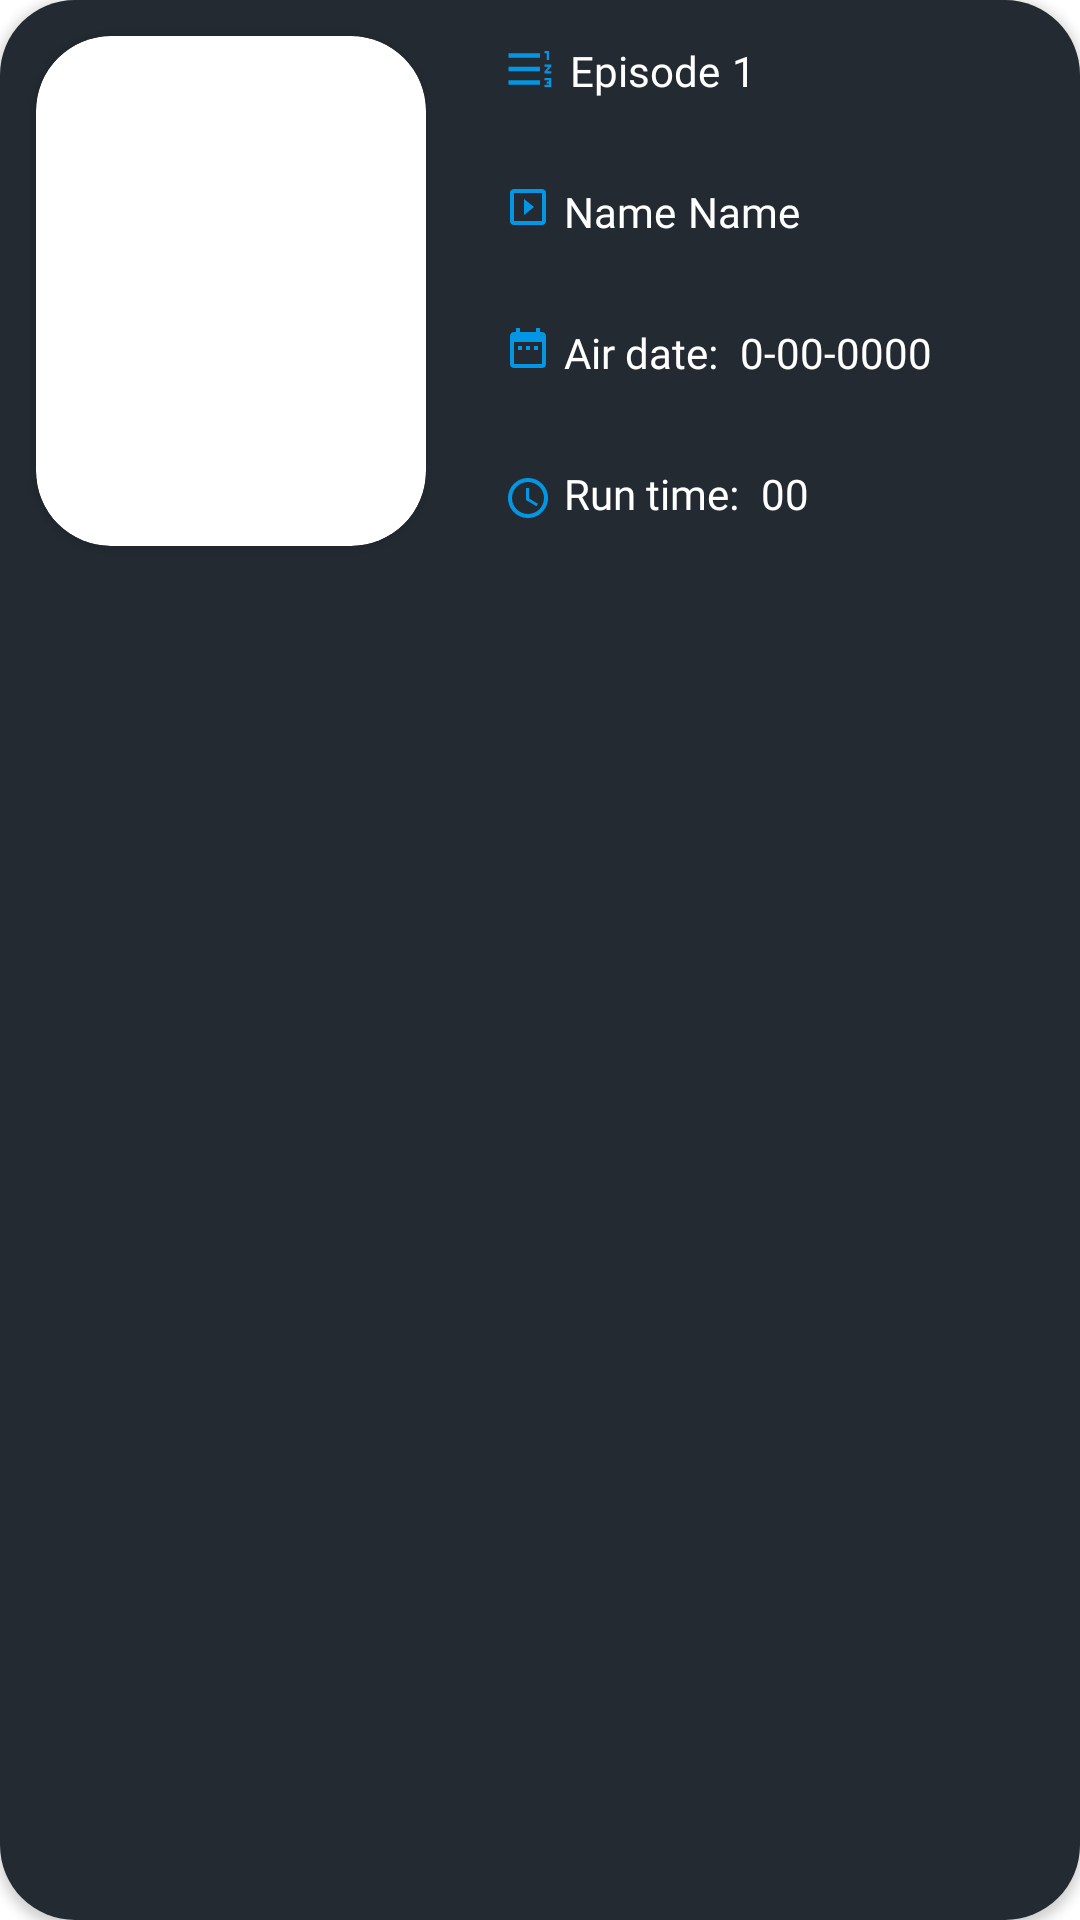

Icons on this 1080×1920 Android screen, each with its box as BBox(x1, y1, x2, y2):
movie: BBox(510, 189, 546, 225)
numbers: BBox(508, 51, 552, 87)
